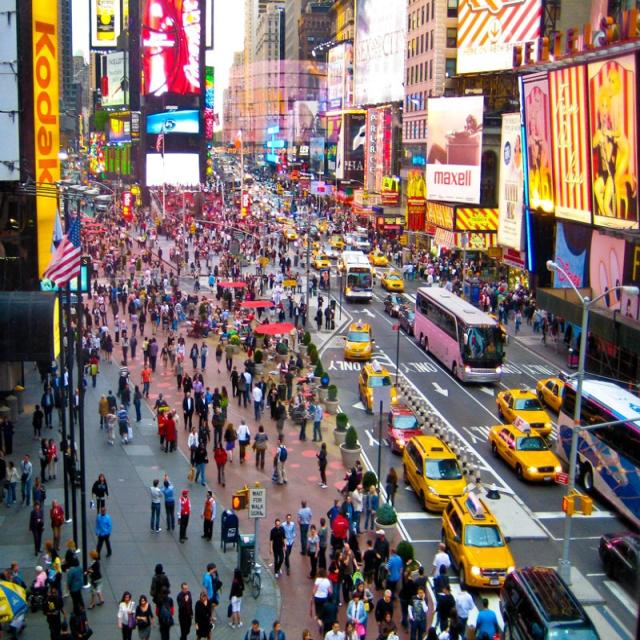body: (504, 71, 638, 221), (555, 219, 632, 313), (278, 180, 370, 240), (194, 180, 278, 245), (63, 202, 158, 258), (210, 143, 322, 181), (424, 111, 482, 164), (460, 248, 530, 288), (166, 182, 194, 262), (56, 139, 90, 204), (292, 239, 370, 266), (412, 245, 460, 288), (199, 244, 270, 272), (368, 227, 414, 268), (308, 566, 333, 625), (82, 547, 105, 610), (42, 583, 67, 639), (60, 299, 91, 342), (66, 554, 86, 618), (406, 584, 429, 639), (267, 516, 287, 579), (340, 542, 361, 602), (382, 545, 404, 602), (226, 566, 246, 628), (279, 511, 298, 576), (149, 563, 171, 619), (154, 585, 176, 640), (350, 579, 374, 629), (454, 581, 474, 639), (92, 505, 113, 560), (344, 589, 367, 639), (474, 595, 500, 639), (218, 273, 256, 303), (397, 567, 414, 633), (175, 580, 194, 639), (422, 624, 492, 640), (372, 527, 390, 589), (326, 549, 345, 607), (434, 583, 456, 633), (296, 497, 314, 556), (27, 499, 45, 557), (193, 587, 213, 639), (60, 538, 77, 599), (317, 589, 338, 638), (116, 588, 136, 639), (134, 593, 156, 639), (159, 472, 176, 531), (68, 601, 94, 639), (374, 588, 394, 636), (198, 489, 216, 542), (47, 546, 64, 602), (330, 508, 350, 554), (362, 482, 380, 533), (192, 440, 210, 488), (185, 317, 226, 338), (148, 476, 163, 533), (177, 487, 192, 544), (251, 424, 270, 469), (305, 522, 320, 579), (49, 497, 65, 550), (90, 472, 110, 514), (428, 542, 451, 578), (230, 302, 253, 338), (19, 453, 34, 507), (273, 436, 289, 486), (362, 538, 378, 588), (350, 481, 364, 537), (338, 464, 363, 495), (3, 459, 19, 507), (158, 596, 175, 640), (235, 418, 251, 464), (210, 562, 222, 622), (210, 403, 225, 451), (138, 257, 168, 281), (213, 439, 228, 486), (340, 493, 355, 539), (316, 516, 328, 570), (40, 384, 54, 430), (384, 466, 399, 508), (315, 440, 328, 488), (274, 398, 287, 444), (162, 411, 176, 453), (45, 436, 58, 481), (378, 611, 398, 640), (137, 290, 161, 314), (224, 421, 238, 462), (310, 398, 323, 442), (39, 436, 50, 487), (1, 414, 15, 454), (52, 386, 66, 426), (433, 562, 451, 593), (242, 618, 268, 639), (181, 390, 194, 432), (117, 404, 130, 445), (197, 391, 210, 432), (30, 402, 44, 440), (116, 360, 130, 398), (322, 618, 347, 639), (347, 529, 362, 564), (187, 426, 200, 466), (104, 409, 118, 446), (96, 391, 110, 428), (298, 399, 310, 442), (432, 616, 454, 639), (39, 538, 53, 574), (139, 362, 153, 398), (413, 566, 429, 597), (32, 476, 47, 509), (132, 280, 180, 290), (267, 381, 279, 419), (156, 408, 167, 449), (171, 407, 181, 451), (326, 498, 340, 529), (243, 357, 255, 392), (343, 459, 362, 481), (236, 371, 247, 409), (162, 406, 173, 444), (229, 364, 241, 398), (66, 432, 79, 463), (252, 381, 262, 421), (257, 375, 267, 415), (132, 384, 142, 423), (219, 385, 230, 420), (340, 619, 359, 639), (55, 620, 75, 639), (242, 367, 252, 405), (10, 559, 24, 586), (413, 229, 435, 246), (149, 336, 159, 373), (224, 336, 234, 373), (198, 420, 211, 448), (119, 331, 130, 364), (265, 373, 275, 409), (89, 352, 99, 388), (284, 366, 294, 402), (268, 619, 285, 640), (347, 466, 360, 493), (182, 371, 195, 398), (120, 382, 130, 416), (160, 340, 170, 374), (34, 564, 48, 588), (210, 386, 222, 414), (168, 338, 178, 371), (105, 389, 118, 414), (152, 392, 170, 410), (80, 342, 90, 374), (140, 334, 150, 366), (52, 371, 62, 402), (199, 340, 209, 371), (71, 386, 79, 424), (192, 375, 202, 405), (192, 366, 205, 389), (175, 337, 186, 364), (575, 329, 586, 356), (563, 322, 574, 349), (189, 341, 199, 370), (98, 299, 108, 328), (214, 341, 223, 373), (91, 301, 102, 327), (313, 305, 324, 331), (175, 356, 183, 391), (540, 317, 550, 345), (303, 396, 317, 416), (105, 333, 114, 364), (288, 395, 301, 416), (488, 286, 497, 316), (266, 341, 278, 363), (128, 329, 137, 358), (247, 329, 256, 357), (275, 358, 289, 376), (484, 340, 497, 359), (49, 354, 58, 381), (137, 309, 146, 336), (531, 304, 540, 331), (538, 302, 548, 326), (292, 301, 301, 327), (113, 314, 121, 343), (294, 379, 305, 400), (174, 297, 184, 320), (2, 567, 16, 583), (130, 308, 138, 336), (167, 330, 175, 358), (520, 288, 536, 302), (42, 373, 53, 393), (100, 290, 110, 312), (307, 375, 317, 397), (308, 381, 318, 403), (294, 391, 304, 413), (260, 331, 270, 353), (64, 366, 70, 402), (150, 307, 158, 334), (269, 296, 277, 323), (324, 303, 332, 330), (587, 330, 595, 357), (558, 306, 566, 333), (327, 304, 335, 330), (526, 301, 534, 327), (295, 322, 304, 345), (482, 290, 491, 313), (127, 297, 135, 322), (267, 332, 277, 352), (100, 329, 106, 362), (160, 290, 182, 299), (300, 303, 308, 327), (204, 386, 214, 405), (293, 367, 302, 388), (255, 296, 263, 319), (511, 289, 519, 312), (120, 290, 127, 316), (300, 626, 314, 639), (187, 297, 196, 317), (110, 282, 118, 304), (255, 273, 263, 295), (514, 308, 521, 333), (502, 299, 509, 324), (146, 338, 152, 367), (306, 366, 315, 385), (551, 316, 559, 337), (478, 290, 486, 311), (162, 310, 168, 337), (96, 290, 103, 313), (208, 270, 215, 293), (316, 290, 324, 310), (496, 289, 504, 309), (192, 270, 200, 290), (269, 246, 277, 266), (121, 279, 128, 301), (290, 273, 297, 295), (262, 268, 269, 290), (276, 298, 285, 315), (132, 294, 142, 309), (160, 300, 170, 315), (497, 298, 503, 323), (112, 300, 119, 321), (105, 258, 112, 279), (298, 290, 306, 308), (154, 308, 160, 332), (128, 261, 135, 281), (181, 296, 188, 316), (306, 277, 313, 297), (230, 263, 237, 283), (107, 284, 114, 304), (295, 353, 303, 370), (278, 307, 286, 324), (115, 282, 122, 301), (198, 300, 205, 319), (111, 262, 117, 284), (82, 373, 87, 399), (278, 246, 286, 262), (89, 344, 98, 358), (312, 275, 318, 296), (91, 330, 100, 344), (119, 319, 129, 331), (92, 260, 98, 280), (92, 278, 99, 295), (221, 265, 228, 282), (322, 269, 328, 288), (296, 273, 302, 292), (268, 269, 274, 288), (234, 262, 240, 281), (402, 260, 408, 279), (289, 355, 296, 371), (278, 332, 286, 346), (275, 270, 283, 284), (205, 300, 211, 318), (186, 292, 192, 310), (194, 246, 200, 263), (260, 316, 270, 326), (213, 311, 220, 325), (177, 331, 185, 343), (128, 290, 136, 302), (96, 282, 102, 298), (101, 283, 107, 299), (208, 298, 214, 314), (192, 290, 198, 306), (176, 261, 182, 277), (201, 294, 207, 309), (189, 260, 195, 275), (157, 245, 162, 263), (195, 260, 201, 275), (286, 285, 292, 300), (286, 253, 291, 270), (408, 260, 414, 274), (504, 287, 511, 299), (221, 308, 229, 318), (218, 262, 223, 278), (168, 268, 174, 281), (279, 253, 286, 264), (278, 235, 283, 250), (241, 270, 256, 275), (214, 264, 218, 281), (172, 308, 178, 319), (214, 305, 221, 314), (126, 372, 130, 386), (0, 450, 5, 460), (169, 298, 174, 308)
